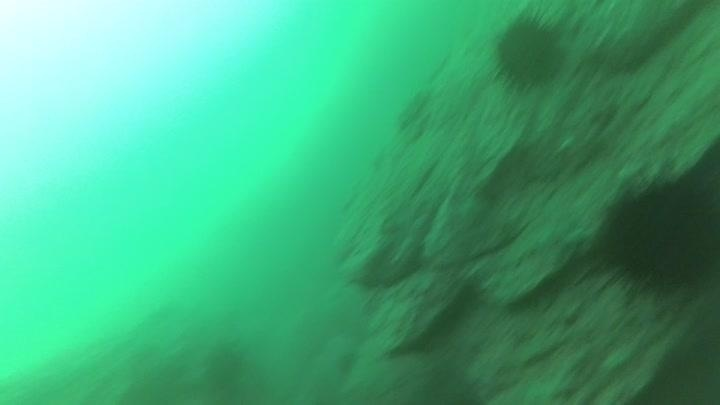echinus: (591, 173, 720, 300), (489, 11, 571, 93)
